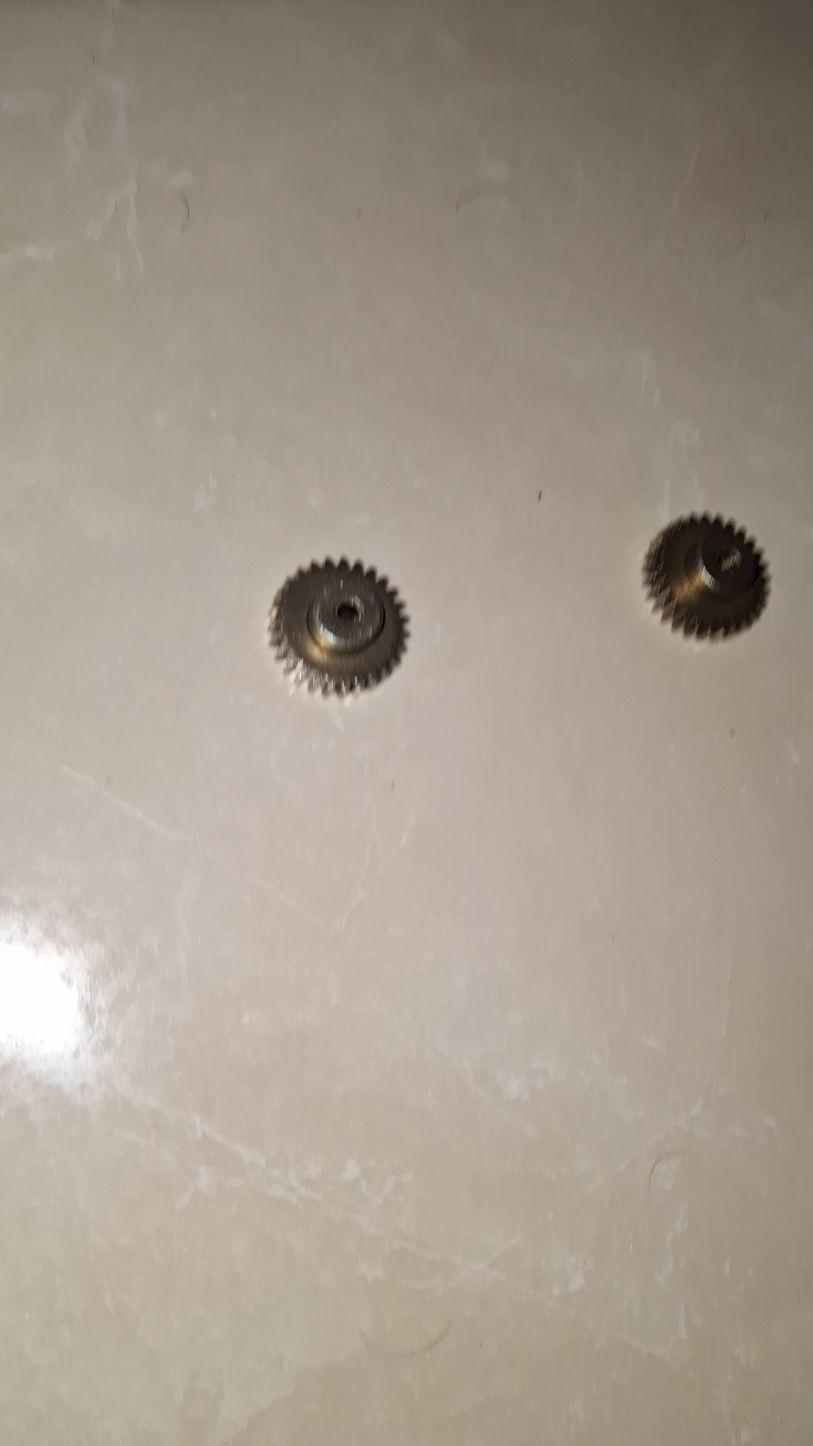spur gear: (270, 558, 407, 694), (643, 514, 768, 638)
